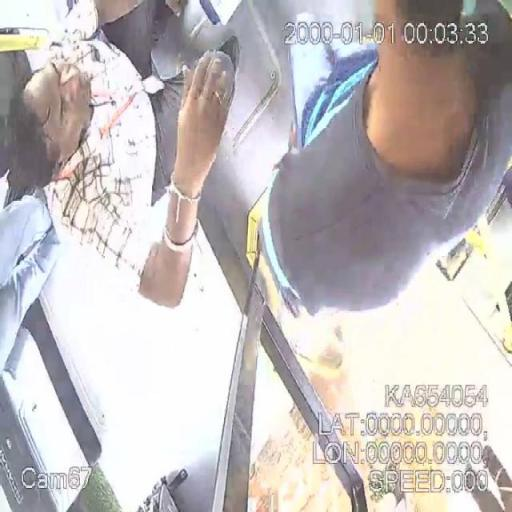persona: (249, 0, 512, 328), (1, 5, 240, 327)
